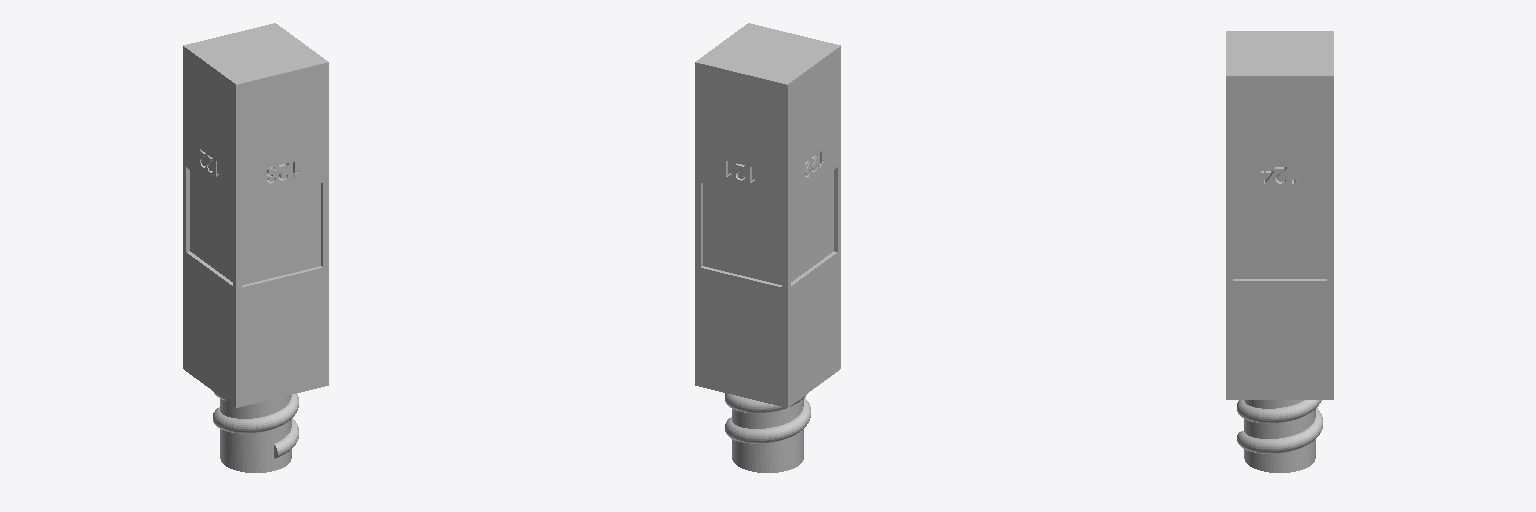
The model's file is desk_leg3.obj.
The picture shows the model from 3 angles: view 1: azimuth 30°, elevation 25°; view 2: azimuth 150°, elevation 25°; view 3: azimuth 270°, elevation 25°; orthographic projection.
Visible parts, largest first — view 1: desk_leg3, desk_leg3.003, desk_leg3.002; view 2: desk_leg3, desk_leg3.001, desk_leg3.002; view 3: desk_leg3, desk_leg3.004.
Part boxes in pixels (x1,y1,x2,y2): desk_leg3: (183, 23, 328, 472); desk_leg3.003: (242, 183, 322, 286); desk_leg3.002: (186, 167, 232, 285); desk_leg3: (695, 23, 840, 472); desk_leg3.001: (701, 183, 781, 286); desk_leg3.002: (791, 167, 837, 285); desk_leg3: (1226, 31, 1333, 472); desk_leg3.004: (1233, 196, 1326, 280).
Bounding box in the file's own units: 0.03 × 0.125 × 0.03.